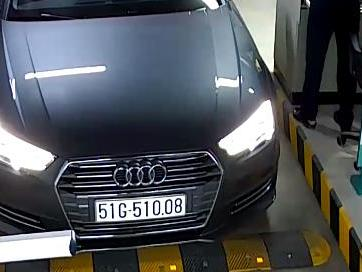number: (94, 194, 188, 224)
